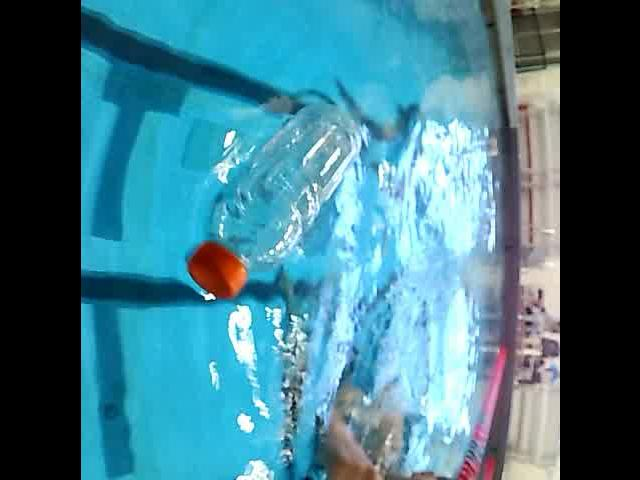Bottle: (180, 96, 366, 304)
